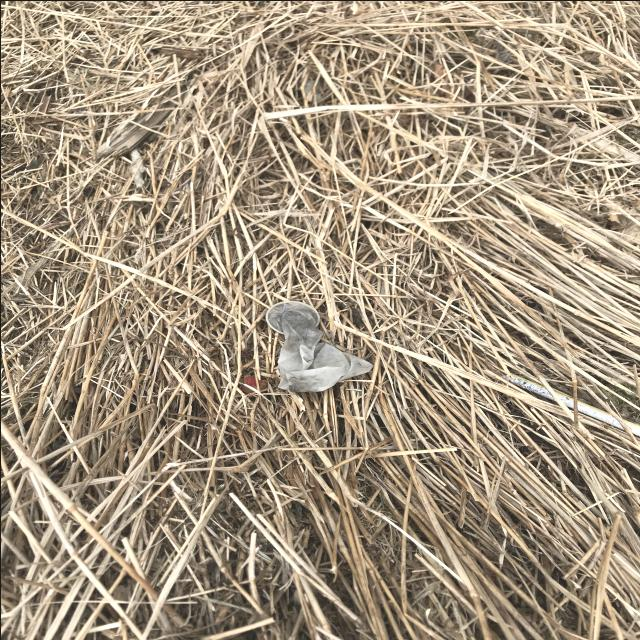Other plastic: (265, 299, 373, 391)
Plastic straw: (504, 372, 639, 436)
